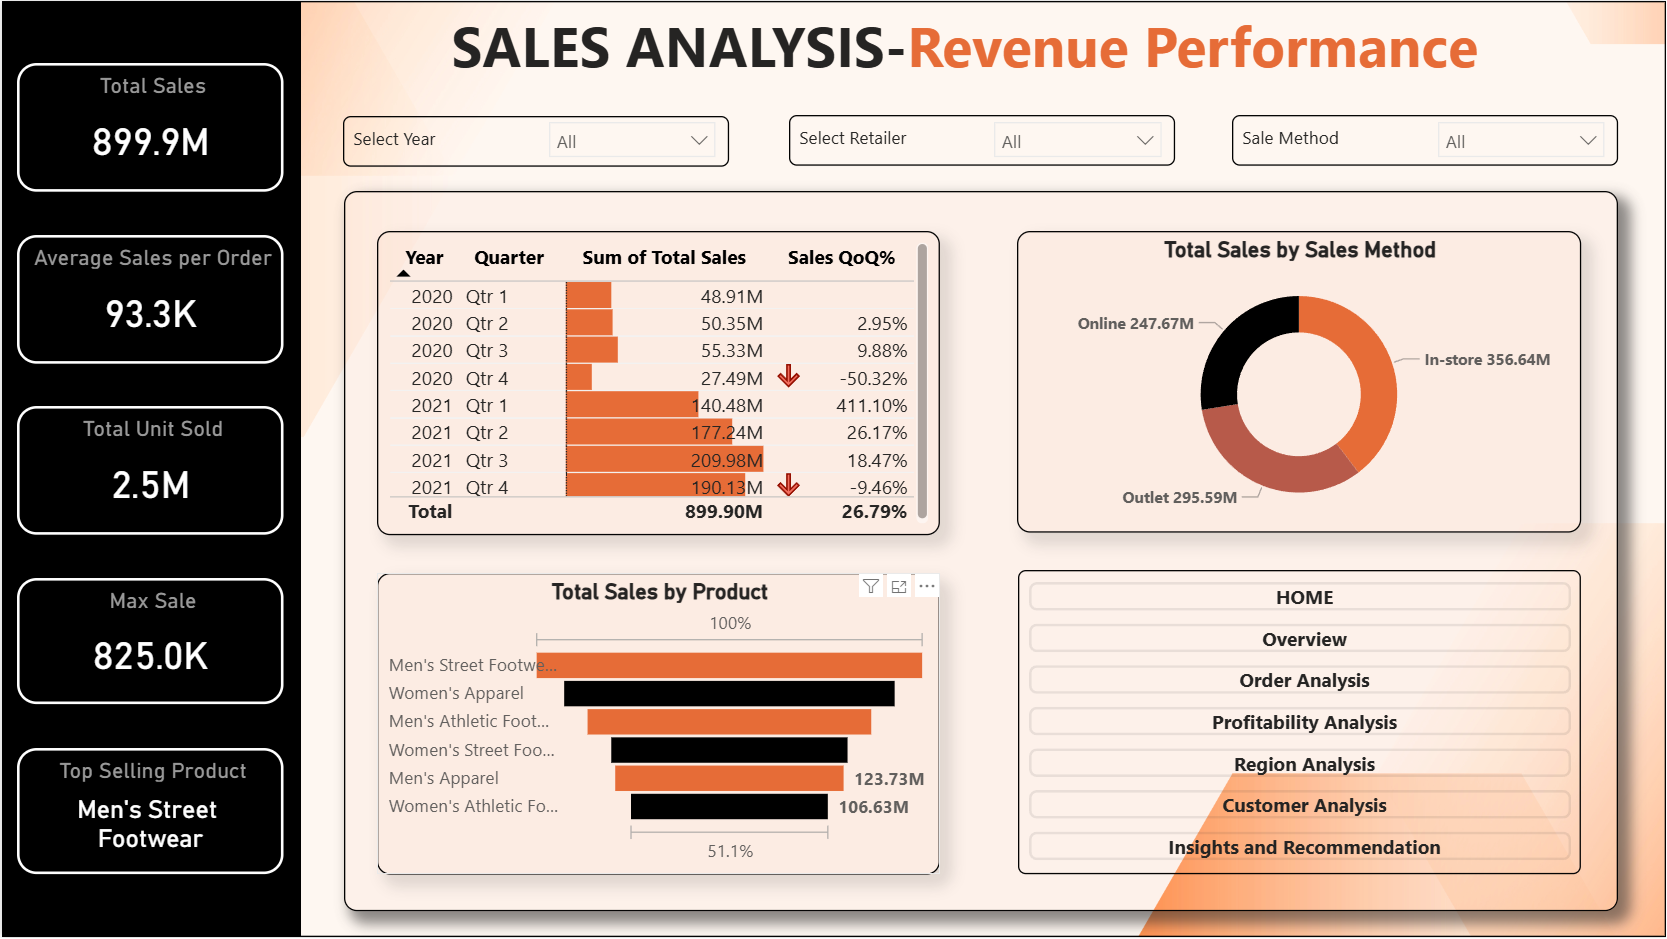

Layout of this report page (visuals, bound fields, positions):
{"tool":"powerbi","page":{"name":"Sales Analysis","canvas":[1280,720],"ordinal":2},"visuals":[{"type":"textbox","box":[0,0,1280,720],"z":0},{"type":"textbox","box":[317.6,0,845.9,78.6],"z":1000},{"type":"textbox","box":[263,146,980.2,554.2],"z":2000},{"type":"textbox","box":[0,0,230,719.8],"z":3000},{"type":"card","title":"Total Sales","fields":{"Values":["Sum(Data Sales Adidas.Total Sales)"]},"box":[11.4,47.9,205.3,98.8],"z":4000},{"type":"card","title":"Average Sales per Order","fields":{"Values":["Data Sales Adidas.average sales per order"]},"box":[11.4,179.8,205.3,98.8],"z":5000},{"type":"card","title":"Total Unit Sold","fields":{"Values":["Sum(Data Sales Adidas.Units Sold)"]},"box":[11.4,311.8,205.3,98.8],"z":6000},{"type":"card","title":"Top Selling Product","fields":{"Values":["Min(Data Sales Adidas.Product)"]},"box":[11.4,574.2,205.3,97.3],"z":7000},{"type":"donutChart","title":"Total Sales by Sales Method","fields":{"Category":["Data Sales Adidas.Sales Method"],"Y":["Sum(Data Sales Adidas.Total Sales)"]},"box":[780.8,176.9,433.7,232.2],"z":8000},{"type":"funnel","title":"Total Sales by Product","fields":{"Category":["Data Sales Adidas.Product"],"Y":["Sum(Data Sales Adidas.Total Sales)"]},"box":[288.3,440,433.3,231.7],"z":9000},{"type":"tableEx","fields":{"Values":["Data Sales Adidas.Order Date.Variation.Date Hierarchy.Year","Data Sales Adidas.Order Date.Variation.Date Hierarchy.Quarter","Sum(Data Sales Adidas.Total Sales)","Data Sales Adidas.Sales QoQ%"]},"box":[288.8,177.2,433.1,233.6],"z":10000},{"type":"card","title":"Max Sale","fields":{"Values":["Data Sales Adidas.maximum sales"]},"box":[11.4,443.8,205.3,97.3],"z":11000},{"type":"textbox","box":[262.5,88.3,296.7,39.2],"z":12000},{"type":"textbox","box":[605.1,87.9,296.6,39.4],"z":13000},{"type":"textbox","box":[946.4,87.9,296.6,39.4],"z":14000},{"type":"slicer","fields":{"Values":["Data Sales Adidas.Order Date.Variation.Date Hierarchy.Year"]},"box":[410.8,83.1,148.5,48.5],"z":15000},{"type":"slicer","fields":{"Values":["Data Sales Adidas.Retailer"]},"box":[753.1,83.1,149.2,43.8],"z":16000},{"type":"slicer","fields":{"Values":["Data Sales Adidas.Sales Method"]},"box":[1094.6,83.1,148.5,46.2],"z":17000},{"type":"textbox","box":[781.7,437.4,433.1,234.2],"z":18000},{"type":"pageNavigator","box":[790.2,447,417,216],"z":19000}]}

Visuals, with their boxes in screenshot pixels (x1, y1, x2, y2), scaled from the page's 1280x720 canvas onto the 1667x939 screenshot:
textbox: <box>0,0,1666,938</box>
textbox: <box>414,0,1515,103</box>
textbox: <box>343,190,1619,913</box>
textbox: <box>0,0,300,938</box>
"Total Sales" card: <box>15,62,282,191</box>
"Average Sales per Order" card: <box>15,234,282,363</box>
"Total Unit Sold" card: <box>15,407,282,535</box>
"Top Selling Product" card: <box>15,749,282,876</box>
"Total Sales by Sales Method" donutChart: <box>1017,231,1582,534</box>
"Total Sales by Product" funnel: <box>375,574,940,876</box>
tableEx - Data Sales Adidas.Order Date.Variation.Date Hierarchy.Year x Data Sales Adidas.Order Date.Variation.Date Hierarchy.Quarter: <box>376,231,940,536</box>
"Max Sale" card: <box>15,579,282,706</box>
textbox: <box>342,115,728,166</box>
textbox: <box>788,115,1174,166</box>
textbox: <box>1233,115,1619,166</box>
slicer - Data Sales Adidas.Order Date.Variation.Date Hierarchy.Year: <box>535,108,728,172</box>
slicer - Data Sales Adidas.Retailer: <box>981,108,1175,165</box>
slicer - Data Sales Adidas.Sales Method: <box>1426,108,1619,169</box>
textbox: <box>1018,570,1582,876</box>
pageNavigator: <box>1029,583,1572,865</box>
